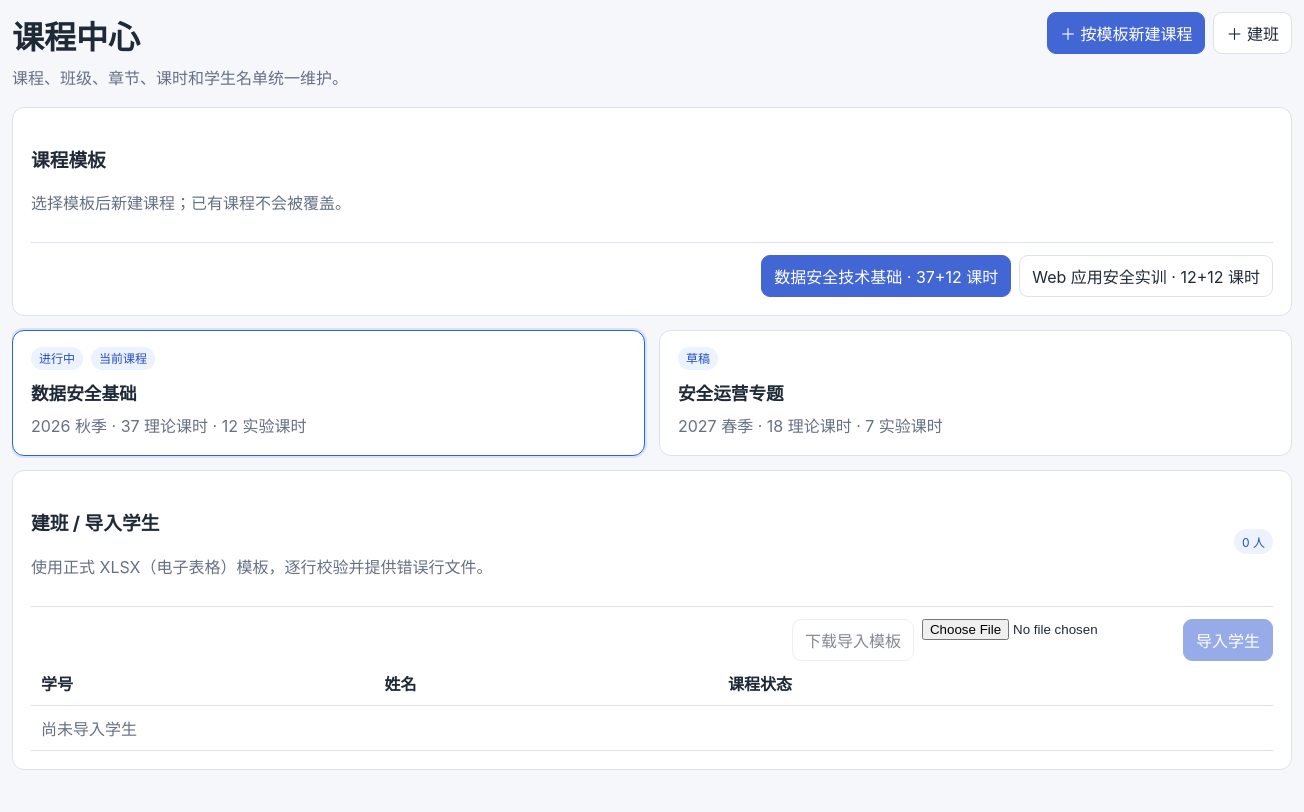
Test: 课程选择 › 展示后端真实课时统计并将选择保存为当前课程
Check: the button with test id "course-course-a" shows "37 理论课时 · 12 实验课时", box [12,330,645,456]
Click the button with test id "course-course-b" at (698, 359), box [659,330,1292,456]
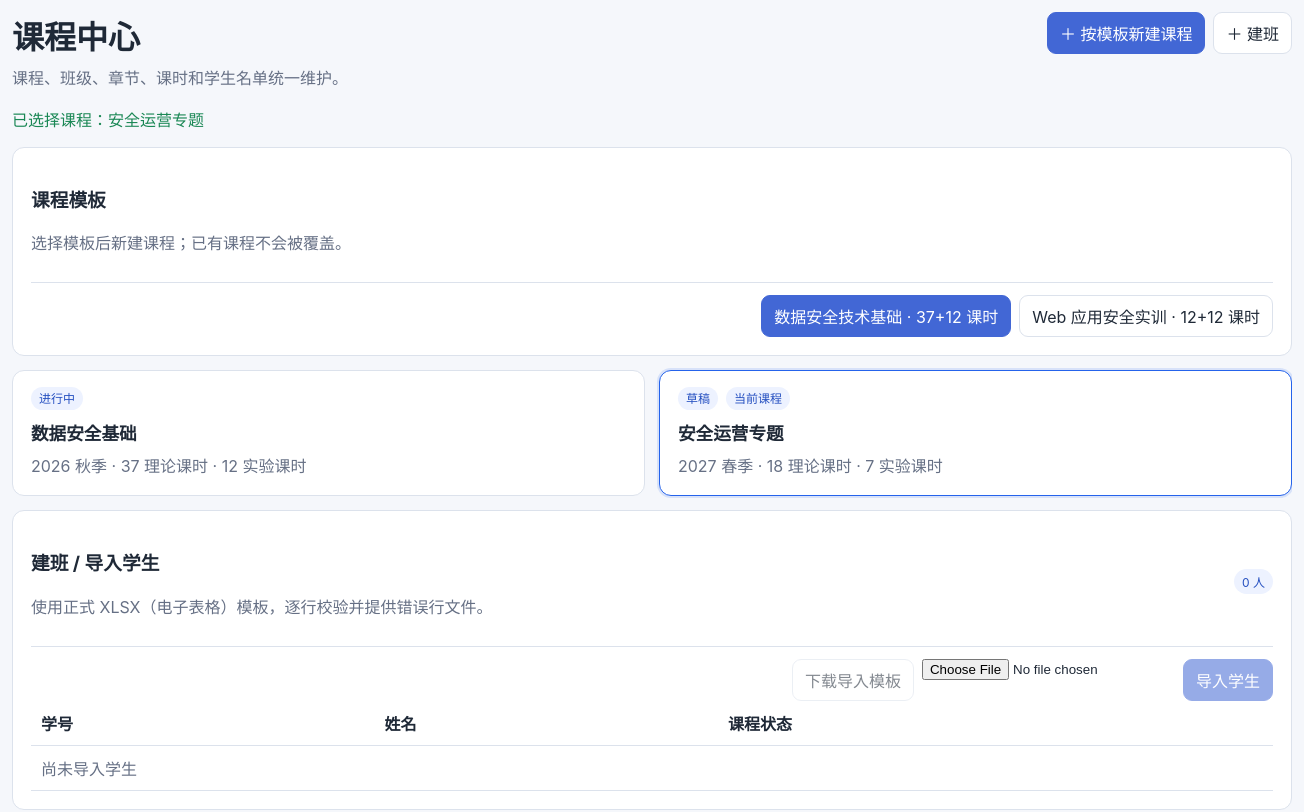
Check: the text with test id "message" reads "已选择课程：安全运营专题", box [12,110,204,130]
